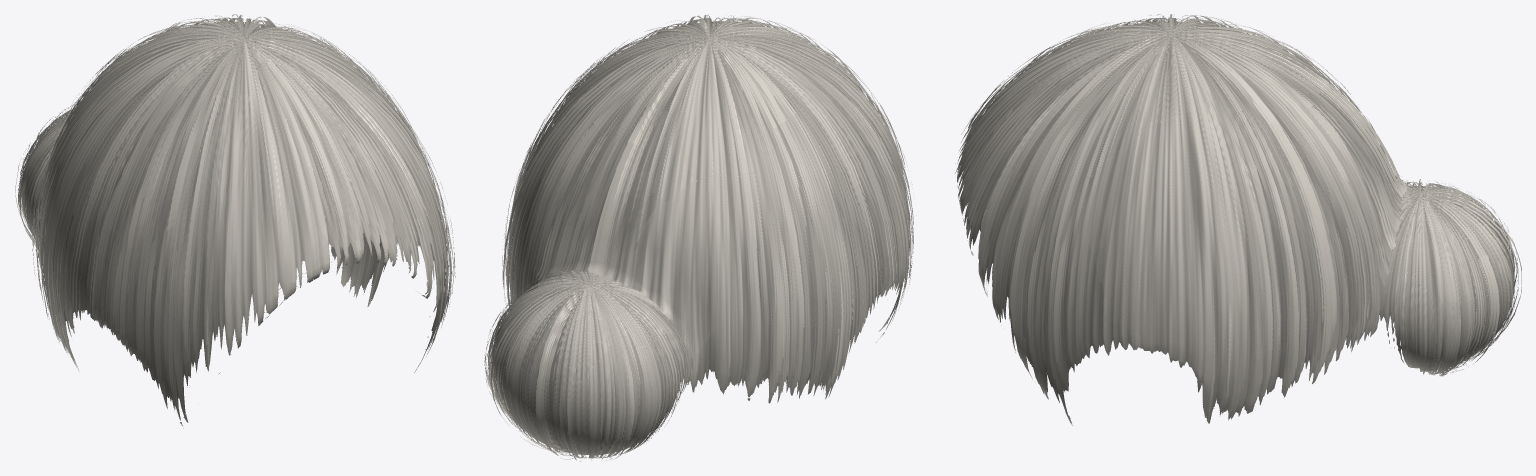
The model's file is toc_bui_edits.glb.
3 renders of one model, left to right at view 1: azimuth 30°, elevation 25°; view 2: azimuth 150°, elevation 25°; view 3: azimuth 270°, elevation 25°, orthographic. The views are drawn at different scales.
Parts seen in each view (by area): view 1: toc_bui_edits; view 2: toc_bui_edits; view 3: toc_bui_edits.
Boxes of the visible parts, left/top/right/bottom form: toc_bui_edits: left=15, top=14, right=455, bottom=428; toc_bui_edits: left=484, top=14, right=916, bottom=461; toc_bui_edits: left=955, top=14, right=1521, bottom=425.
Size of the model in its own units: 0.1858 by 0.1924 by 0.2638.
1 material, 1 textured.
